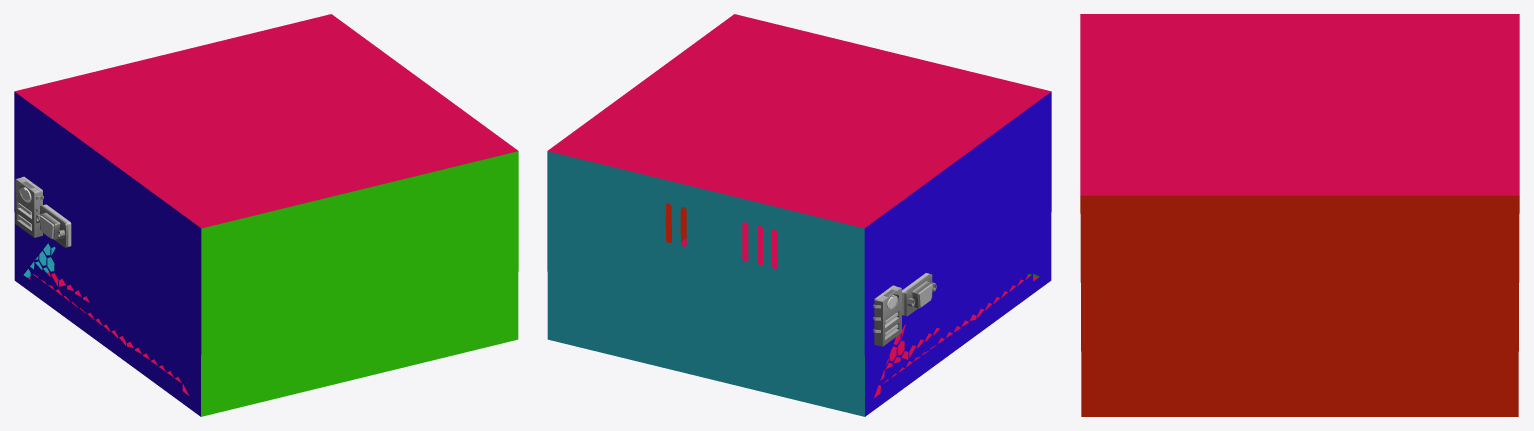
3 renders of one model, left to right at view 1: azimuth 30°, elevation 25°; view 2: azimuth 150°, elevation 25°; view 3: azimuth 270°, elevation 25°, orthographic. The views are drawn at different scales.
Visible parts, largest first — view 1: Cube.004, Cube.007, Cube.001, Куб.052, Куб.055, Cube.006; view 2: Cube.002, Cube.007, Cube.001, Cube.006, Куб.052, Куб.055, Cube.003; view 3: Cube.003, Cube.007.
Part boxes in pixels (x1,y1,x2,y2): Cube.004: (201,151,518,416); Cube.007: (14,14,517,228); Cube.001: (14,92,201,416); Куб.052: (15,176,43,237); Куб.055: (36,204,71,247); Cube.006: (27,272,188,395); Cube.002: (547,151,864,416); Cube.007: (548,14,1051,228); Cube.001: (864,92,1051,416); Cube.006: (681,222,1038,397); Куб.052: (873,285,901,346); Куб.055: (902,273,936,316); Cube.003: (665,203,686,242); Cube.003: (1080,195,1519,416); Cube.007: (1080,14,1519,195).
Size of the model in its own units: 497 by 270 by 485.
